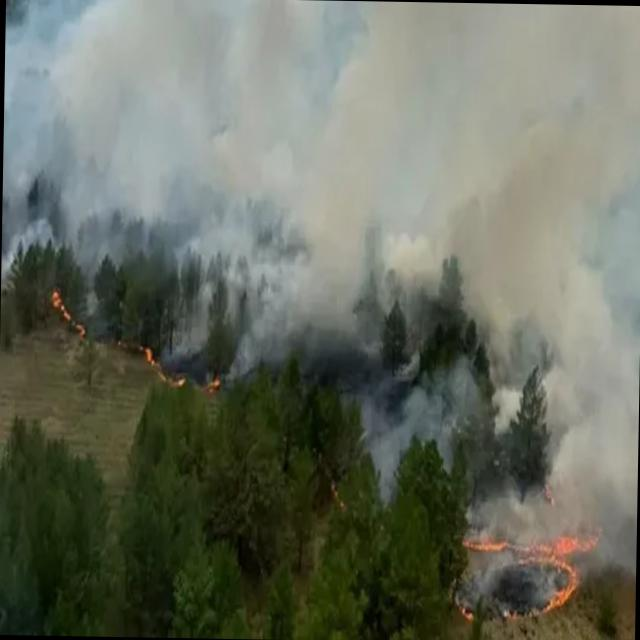Smoke: (0, 0, 640, 332)
